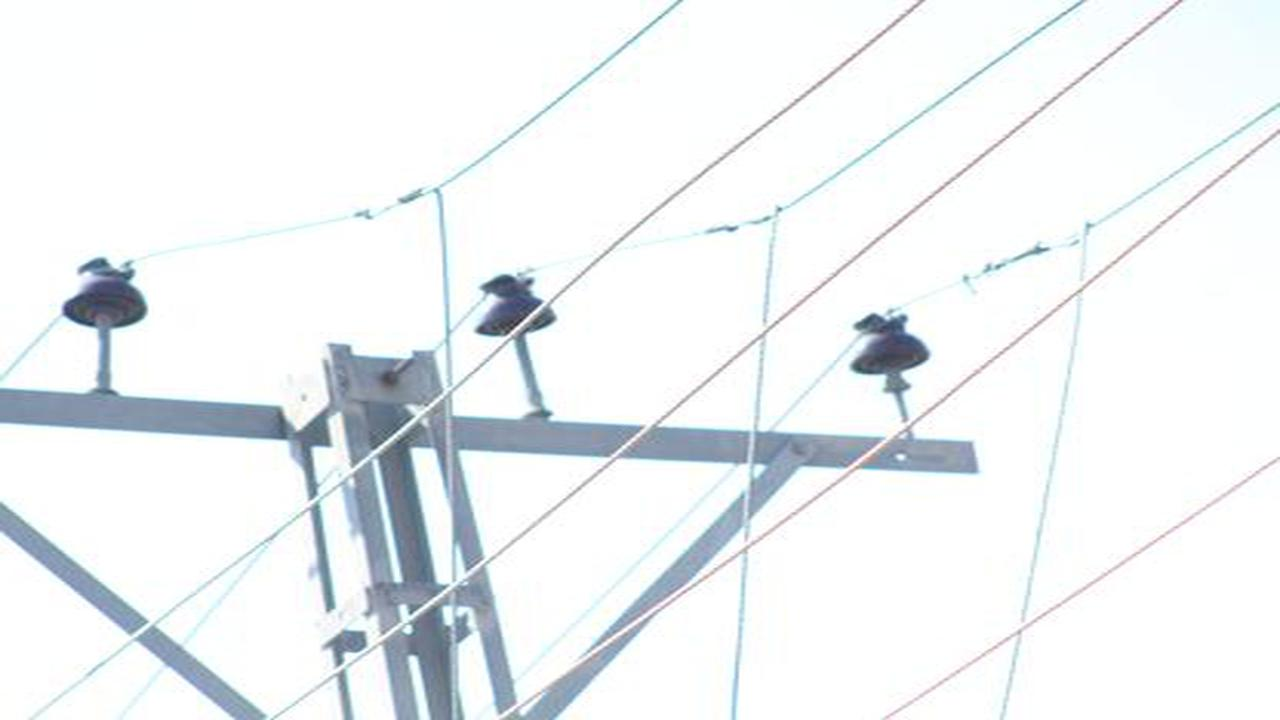insulator_pin: (56, 250, 151, 334), (839, 306, 938, 384), (471, 270, 562, 344)
